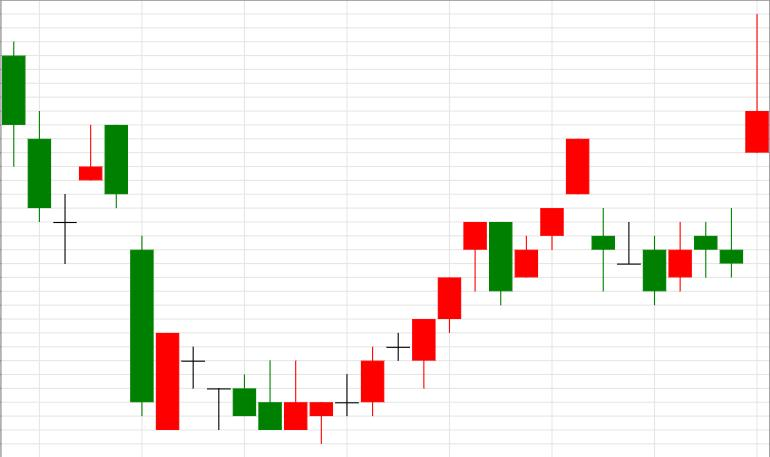bearish_engulfing_fall: (285, 222, 512, 444)
hanging_man_fall: (284, 221, 486, 443)
